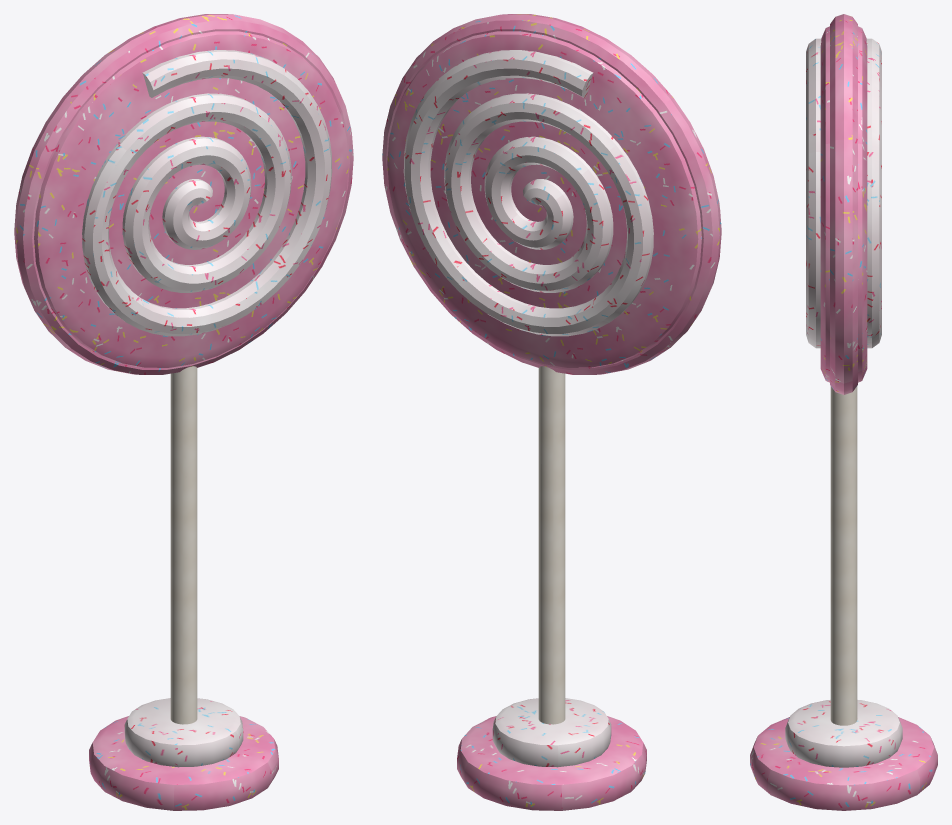
File: GIN_Lollipop.fbx
3 views of the same model, side by side, from view 1: azimuth 30°, elevation 25°; view 2: azimuth 150°, elevation 25°; view 3: azimuth 270°, elevation 25° (orthographic).
Parts seen in each view (by area): view 1: GIN_Lollipop; view 2: GIN_Lollipop; view 3: GIN_Lollipop.
Boxes of the visible parts, x1,y1,x2,y2 form: GIN_Lollipop: (14, 14, 353, 810); GIN_Lollipop: (382, 14, 721, 810); GIN_Lollipop: (750, 14, 937, 810).
Bounding box in the file's own units: 1.3 × 2.8 × 0.64.
